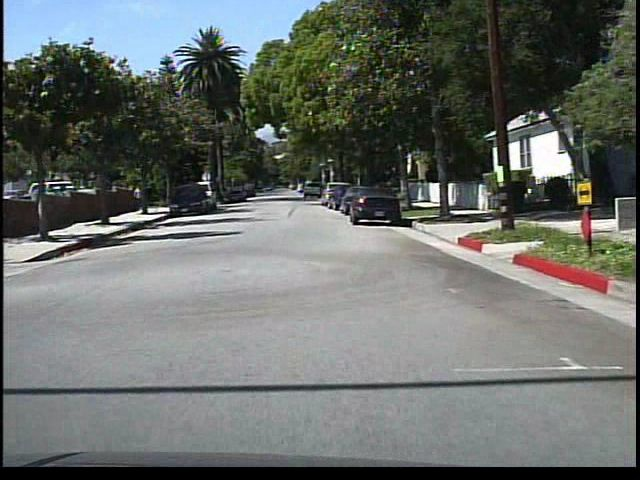person: (134, 182, 148, 214)
